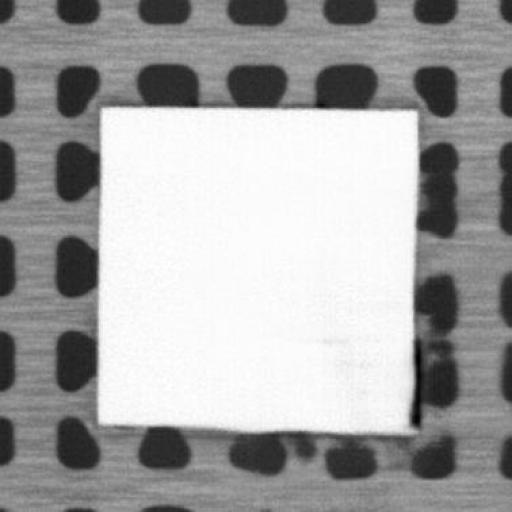DIE_BROKEN: (405, 336, 421, 431)
